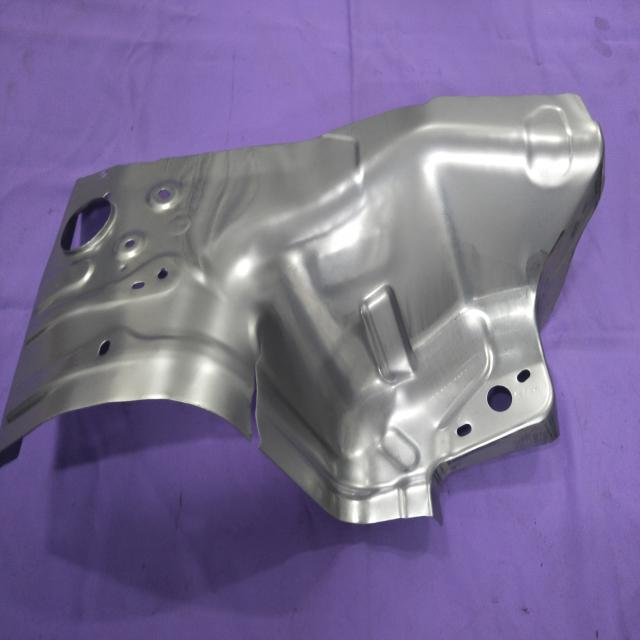Defect: (242, 309, 270, 453)
